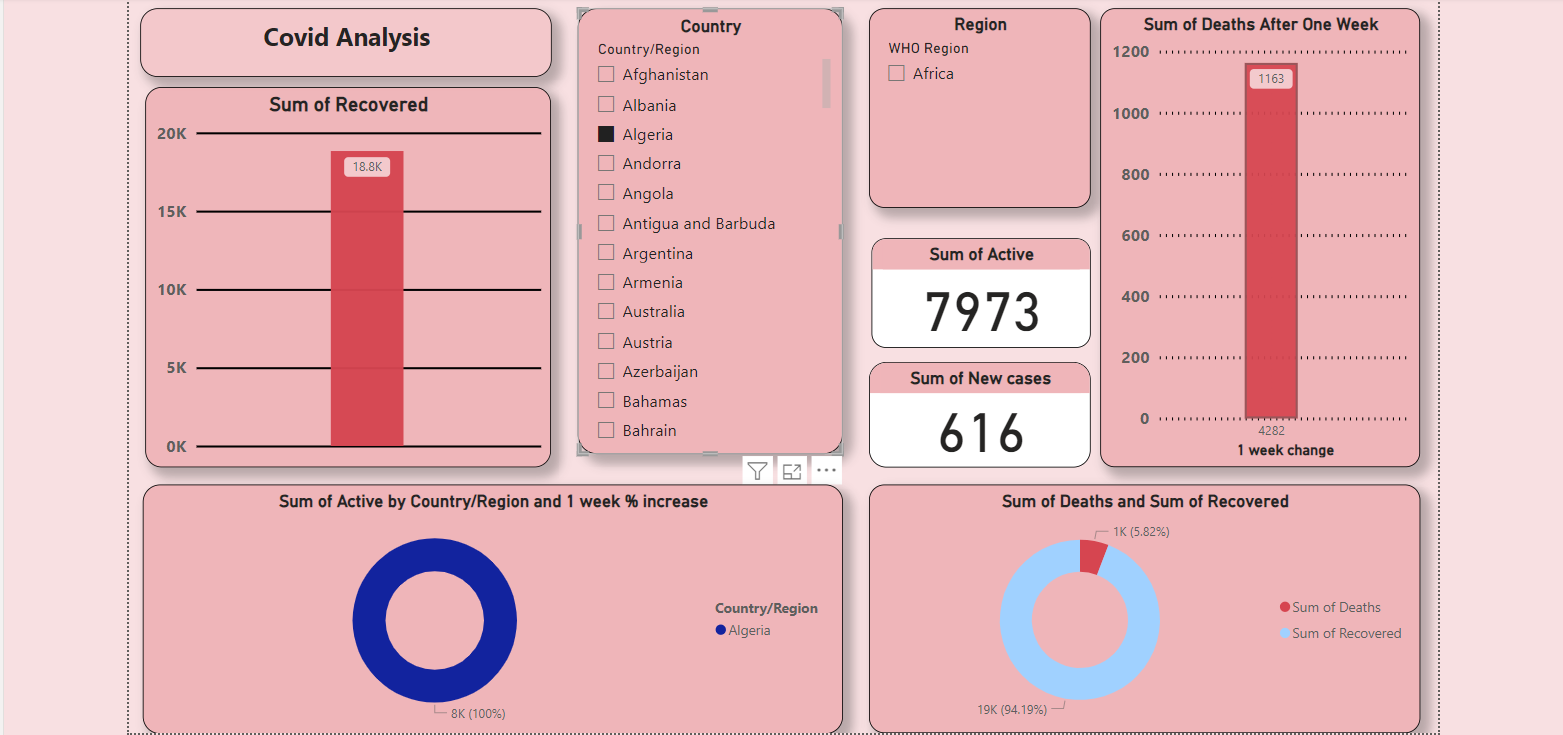

What the dashboard file says about the page in this screenshot:
{"tool":"powerbi","page":{"name":"Page 1","canvas":[1280,720],"ordinal":0},"visuals":[{"type":"textbox","box":[11,11,402.1,67.2],"z":0},{"type":"slicer","title":"Country","fields":{"Values":["country_wise_latest.Country/Region"]},"box":[439.1,11,259.3,436.4],"z":1000},{"type":"lineStackedColumnComboChart","fields":{"Y":["Sum(country_wise_latest.Recovered)"]},"box":[16.5,87.8,396.6,371.9],"z":2000},{"type":"slicer","title":"Region","fields":{"Values":["country_wise_latest.WHO Region"]},"box":[723.2,11,216.8,194.9],"z":3000},{"type":"donutChart","fields":{"Series":["country_wise_latest.1 week % increase"],"Y":["Sum(country_wise_latest.Active)"],"Category":["country_wise_latest.Country/Region"]},"box":[13.7,476.2,684.7,244.3],"z":4000},{"type":"donutChart","fields":{"Y":["Sum(country_wise_latest.Deaths)","Sum(country_wise_latest.Recovered)"]},"box":[723.7,476.7,539.1,243.3],"z":5000},{"type":"lineStackedColumnComboChart","title":"Sum of Deaths After One Week","fields":{"Category":["country_wise_latest.1 week change"],"Y":["Sum(country_wise_latest.Deaths)"]},"box":[949.6,11,312.9,448.7],"z":6000},{"type":"card","title":"Sum of Active","fields":{"Values":["Sum(country_wise_latest.Active)"]},"box":[725.9,236,214.1,107],"z":7000},{"type":"card","title":"Sum of New cases","fields":{"Values":["Sum(country_wise_latest.New cases)"]},"box":[723.2,356.8,216.8,102.9],"z":8000}]}

Visuals, with their boxes in screenshot pixels (x1, y1, x2, y2):
textbox: select_region(121, 3, 542, 74)
"Country" slicer: select_region(569, 3, 841, 460)
lineStackedColumnComboChart - Sum(country_wise_latest.Recovered): select_region(127, 84, 542, 473)
"Region" slicer: select_region(866, 3, 1093, 207)
donutChart - country_wise_latest.1 week % increase x Sum(country_wise_latest.Active): select_region(124, 490, 841, 734)
donutChart - Sum(country_wise_latest.Deaths) x Sum(country_wise_latest.Recovered): select_region(867, 491, 1431, 734)
"Sum of Deaths After One Week" lineStackedColumnComboChart: select_region(1103, 3, 1431, 473)
"Sum of Active" card: select_region(869, 239, 1093, 351)
"Sum of New cases" card: select_region(866, 365, 1093, 473)
